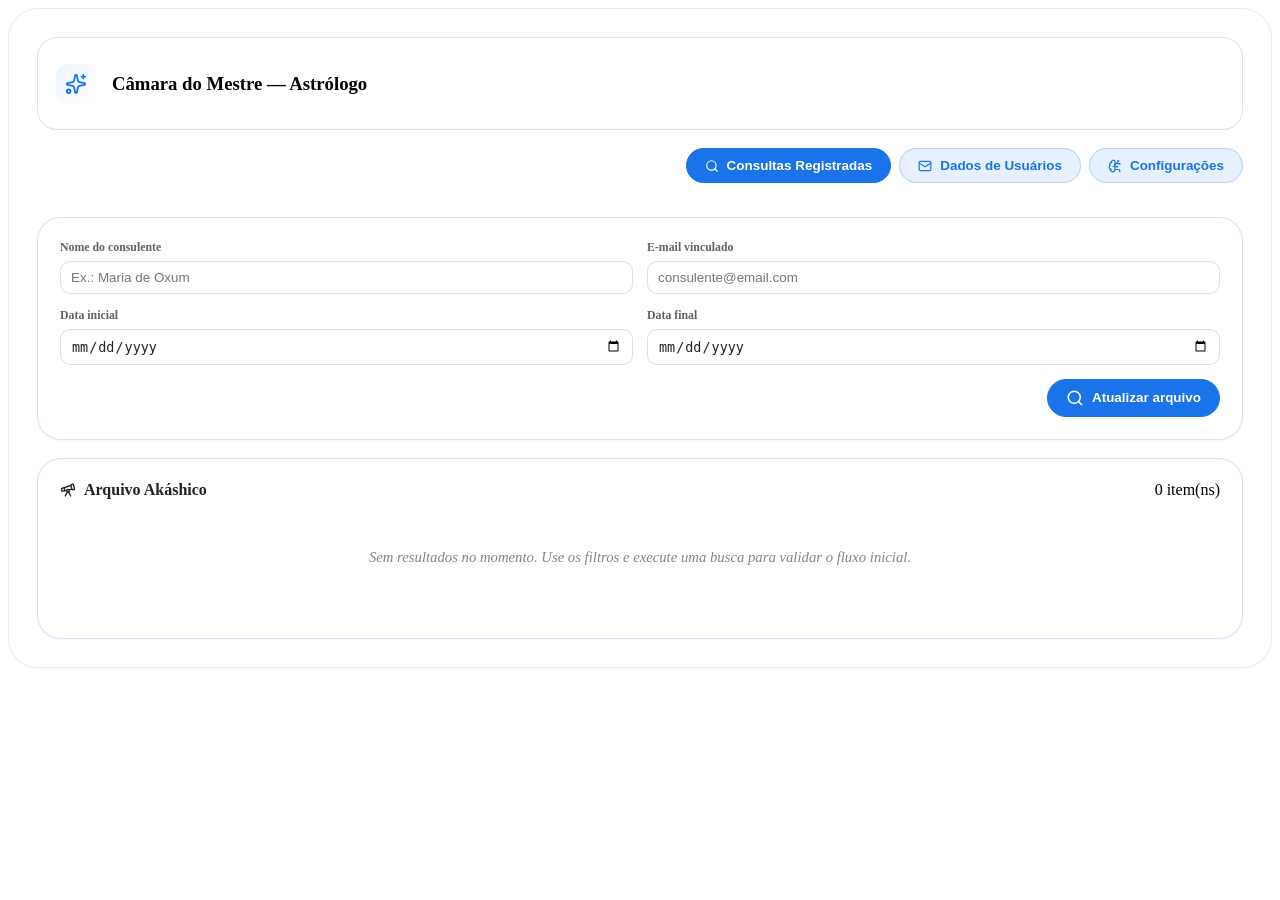
Test: AstrologoModule email report ownership › não exibe sentinelas nem metadados internos presentes em uma análise histórica
What coordinates should you click on to do the following:
click the button "Atualizar arquivo"
I would click on:
 (1134, 398)
Its box is [1047,379,1220,417].
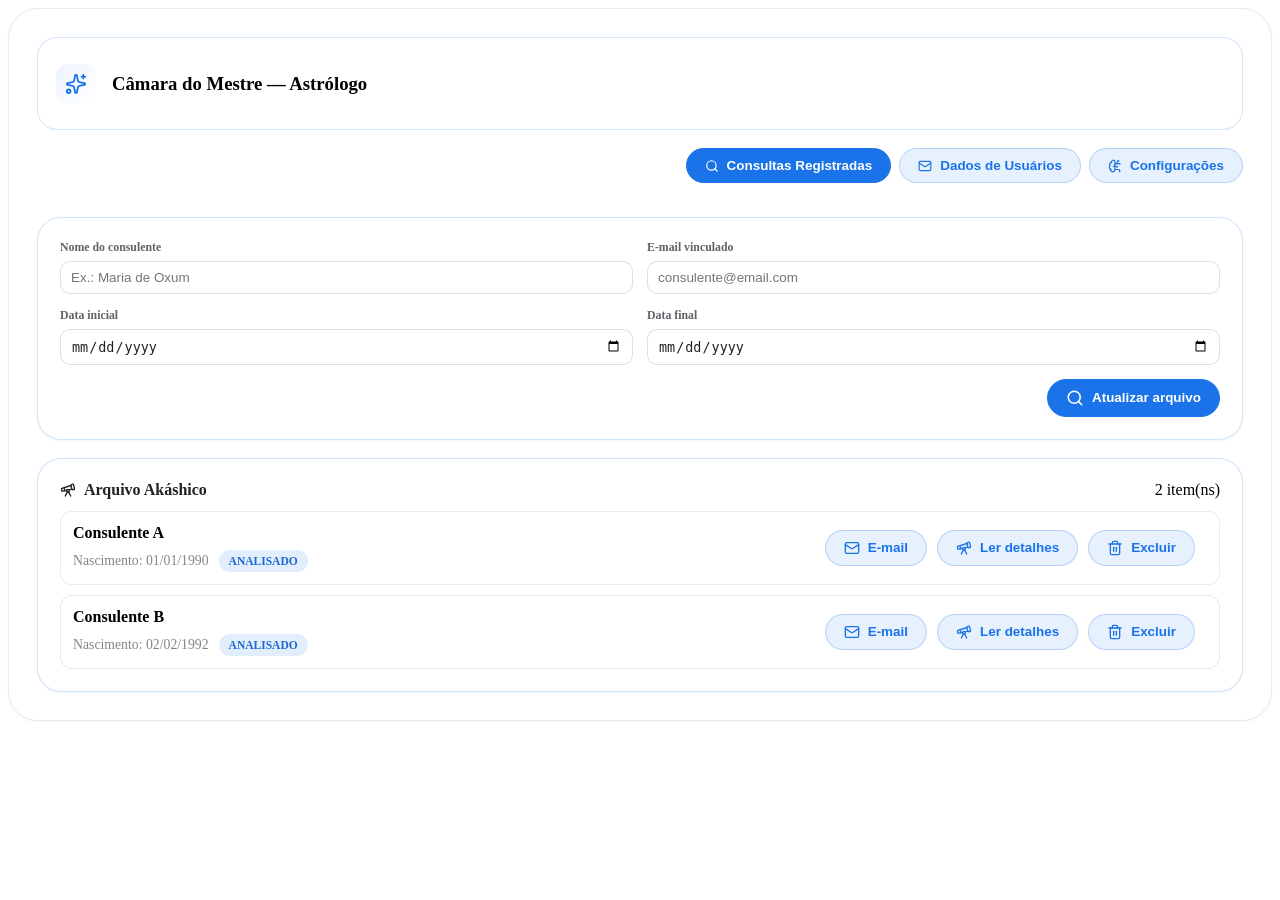
expect the list item "Consulente A" is shown: met, box [73,524,164,541]
What coordinates should you click on to do the following:
click the button "Ler detalhes" in the row of "Consulente A"
I would click on:
 (1008, 548)
Its box is [937,530,1078,566].
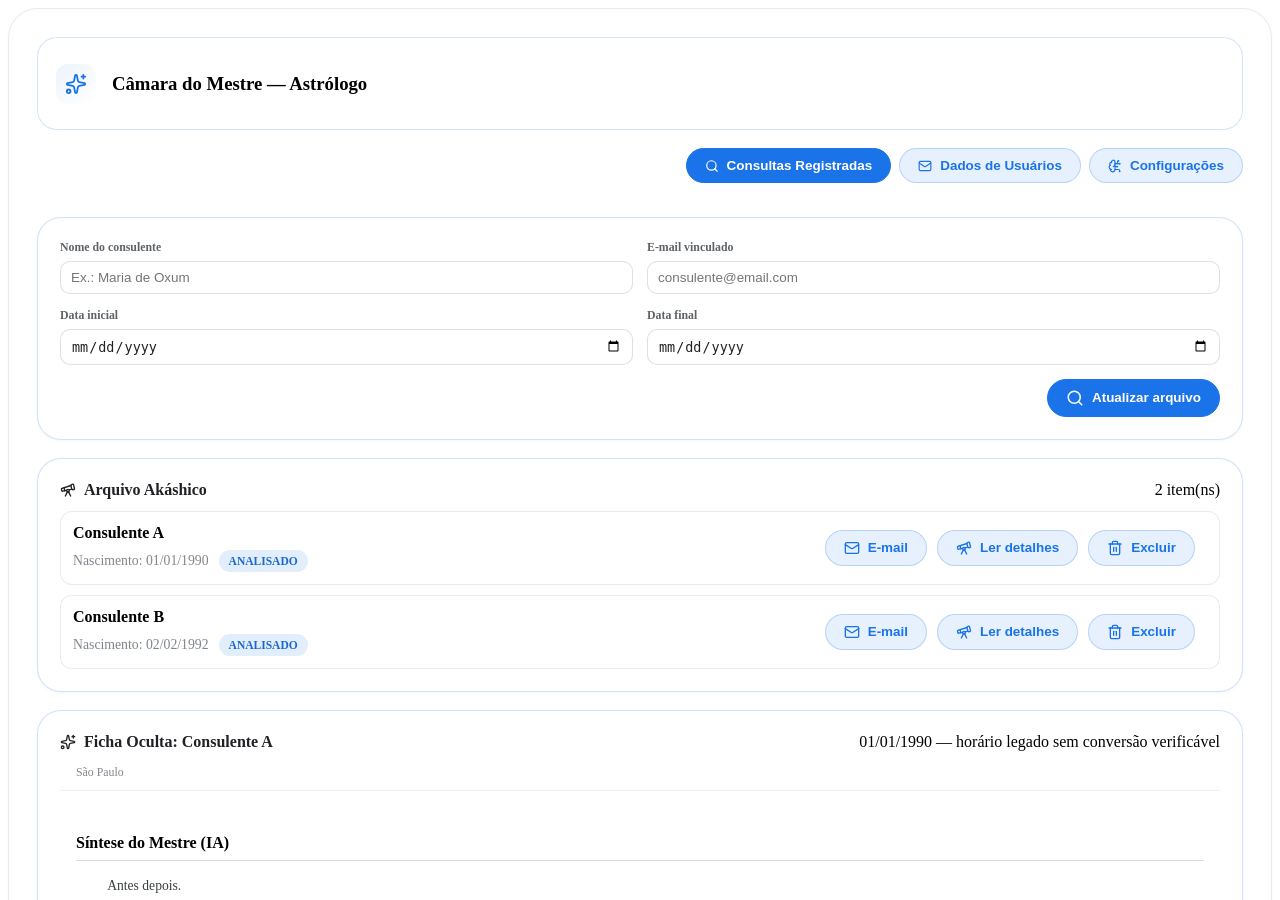
expect the text "Antes depois." is shown: met, box [107,878,181,893]
